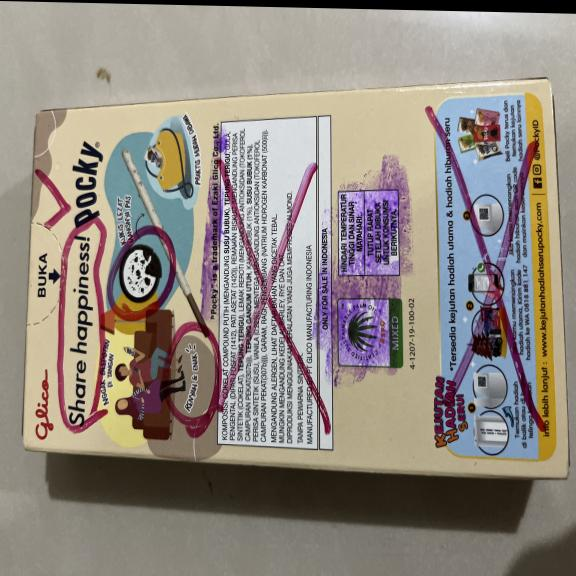Kertas: (22, 64, 570, 486)
